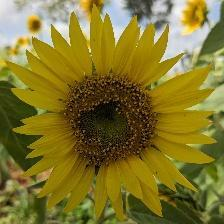sunflower: (6, 1, 220, 219)
